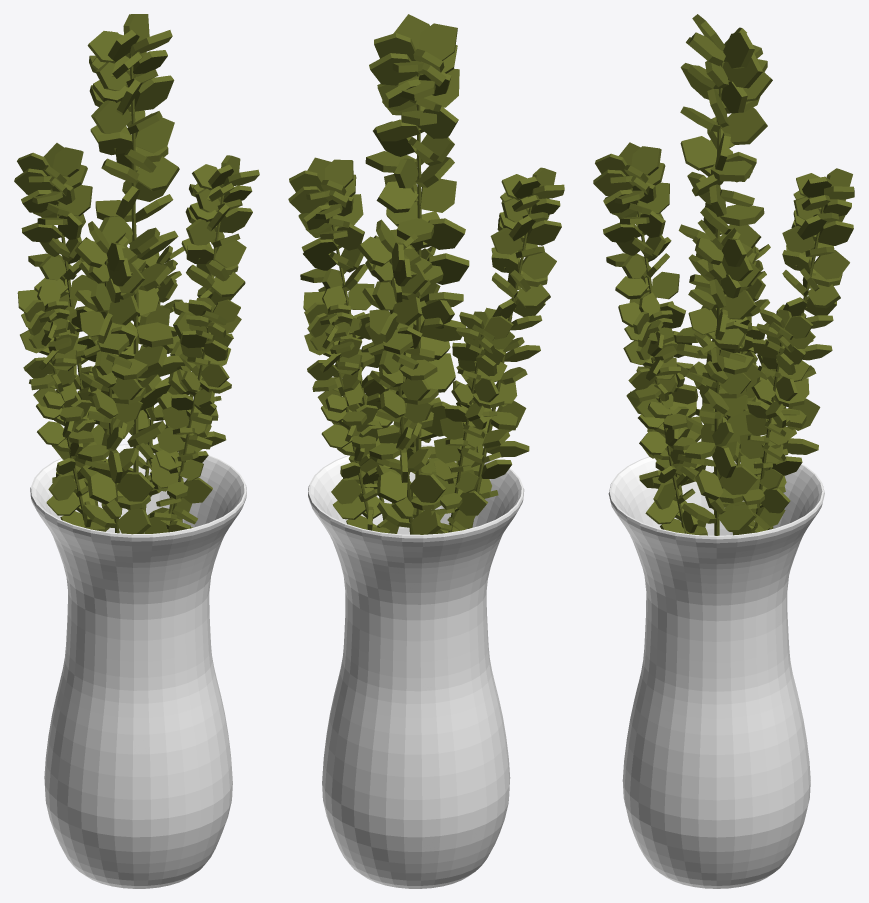
The model's file is CenterpiecePlant.fbx.
3 views of the same model, side by side, from view 1: azimuth 30°, elevation 25°; view 2: azimuth 150°, elevation 25°; view 3: azimuth 270°, elevation 25° (orthographic).
Parts seen in each view (by area): view 1: CenterpiecePlant; view 2: CenterpiecePlant; view 3: CenterpiecePlant.
Boxes of the visible parts, x1,y1,x2,y2 form: CenterpiecePlant: (14,14,259,888); CenterpiecePlant: (288,14,564,888); CenterpiecePlant: (593,14,854,888).
Bounding box in the file's own units: 6.81 × 24.99 × 7.01.
